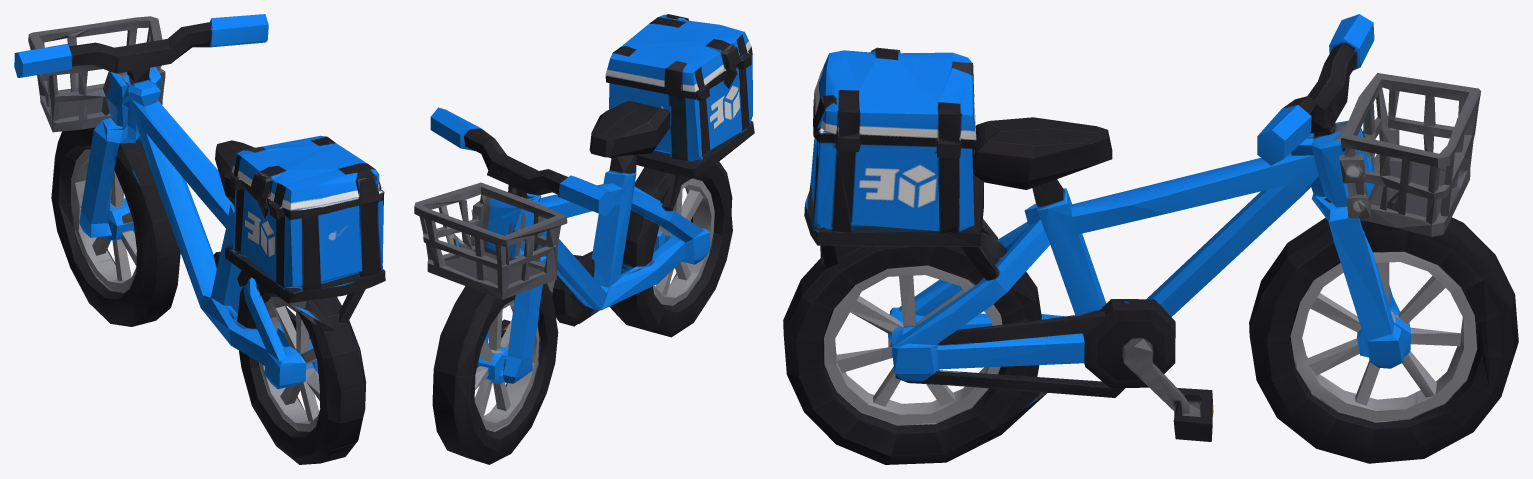
Rendered from Bicycle_Body.obj.
3 views of the same model, side by side, from view 1: azimuth 30°, elevation 25°; view 2: azimuth 150°, elevation 25°; view 3: azimuth 270°, elevation 25° (orthographic). The views are drawn at different scales.
Parts seen in each view (by area): view 1: Bicycle_Body; view 2: Bicycle_Body; view 3: Bicycle_Body.
Boxes of the visible parts, left/top/right/bottom form: Bicycle_Body: left=14, top=14, right=385, bottom=464; Bicycle_Body: left=414, top=14, right=754, bottom=464; Bicycle_Body: left=783, top=14, right=1518, bottom=464.
Bounding box in the file's own units: 2.68 × 3.65 × 6.2.
1 material, 1 textured.
